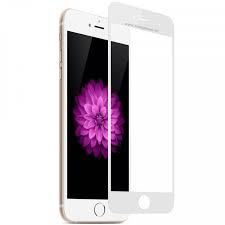iphone: (55, 7, 134, 224)
iphone6: (55, 5, 134, 222)
